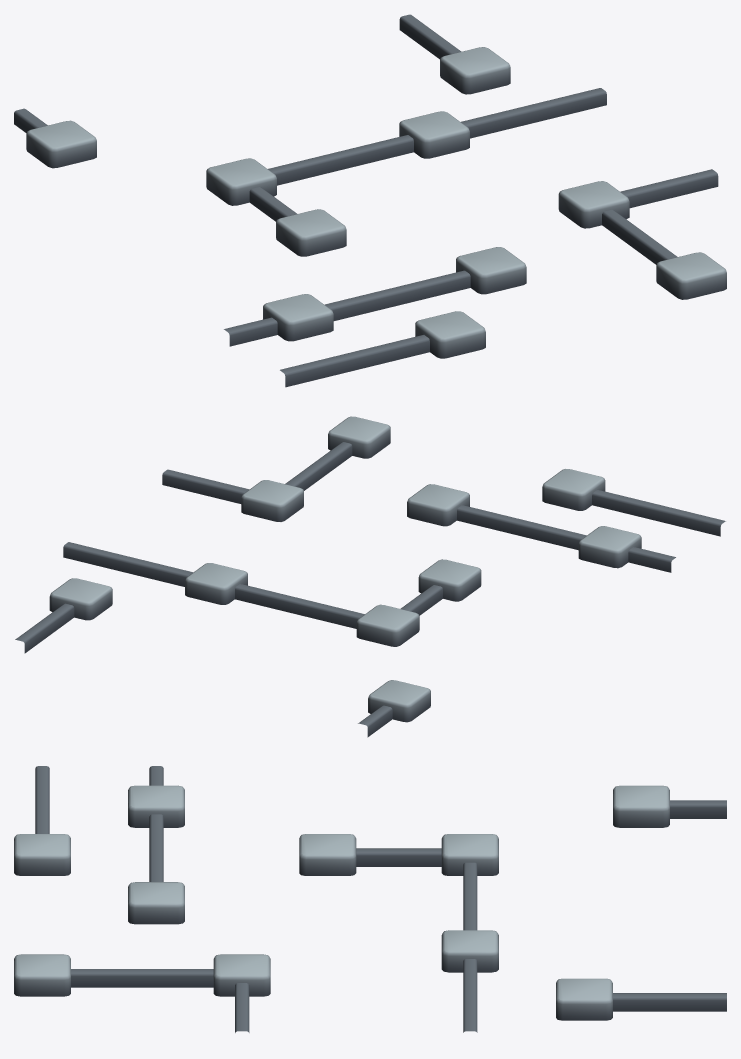
The model's file is turret-layout.glb.
3 renders of one model, top to bottom at view 1: azimuth 30°, elevation 25°; view 2: azimuth 150°, elevation 25°; view 3: azimuth 270°, elevation 25°, orthographic. The views are drawn at different scales.
Parts seen in each view (by area): view 1: turret_layout; view 2: turret_layout; view 3: turret_layout.
Boxes of the visible parts, <box> form: turret_layout: <box>14,14,726,387</box>; turret_layout: <box>15,416,725,737</box>; turret_layout: <box>14,766,726,1032</box>.
Size of what is drawn, in the model's own units: 44 by 1.5 by 50.
1 material, 1 textured.
